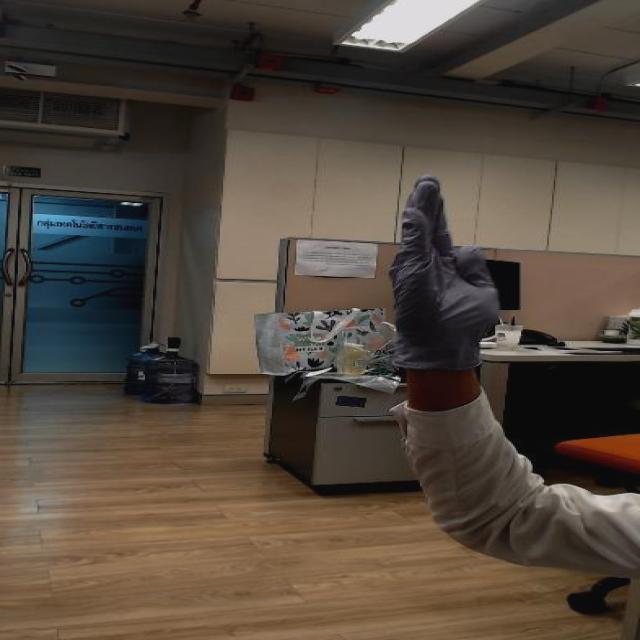glove: (352, 157, 531, 351)
